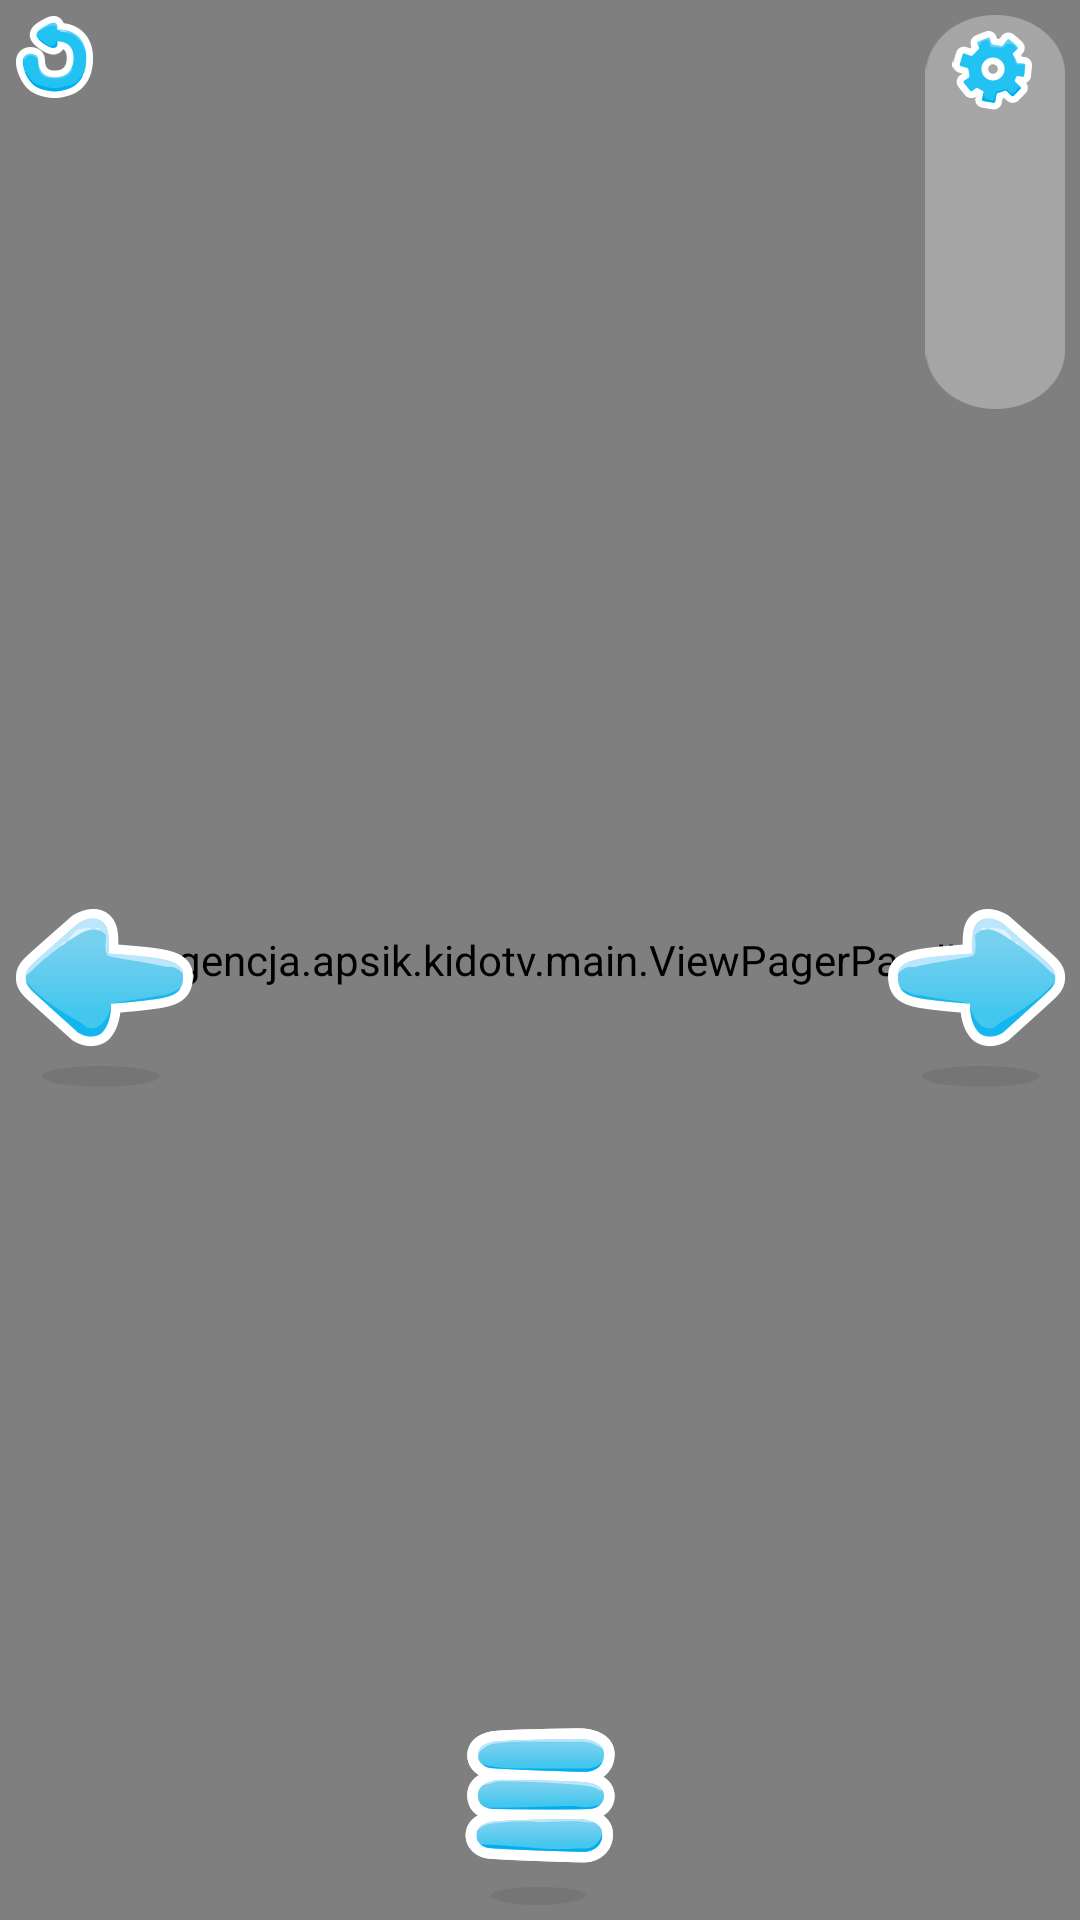

Locate icon controls on the screen. Image size 1080px x 1920px, boxes as (x1,y1,x2,y2).
back: (16,16,93,98)
left arrow: (16,909,193,1046)
list: (465,1728,615,1863)
right arrow: (887,909,1065,1046)
start settings: (952,31,1032,110)
